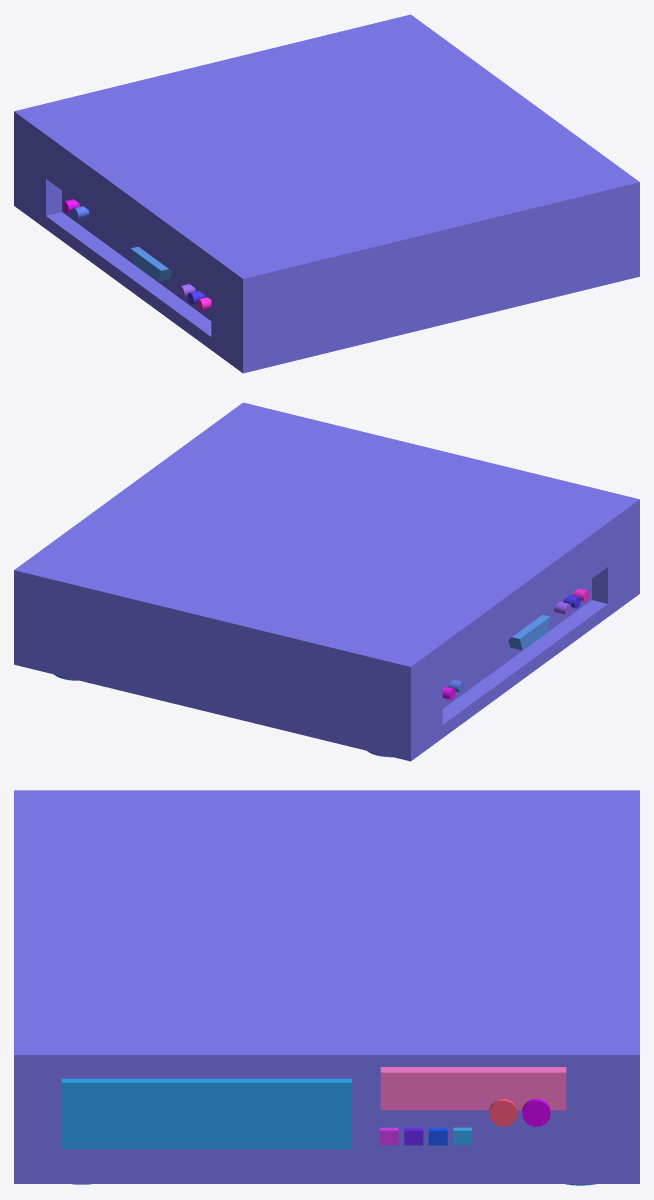
The model's file is vidik_colored_one_fig.fbx.
3 views of the same model, one above another, from view 1: azimuth 30°, elevation 25°; view 2: azimuth 150°, elevation 25°; view 3: azimuth 270°, elevation 25° (orthographic). The views are drawn at different scales.
Visible parts, largest first — view 1: Cylinder.010; view 2: Cylinder.010; view 3: Cylinder.010.
Part boxes in pixels (<box>): Cylinder.010: <box>14,14,639,373</box>; Cylinder.010: <box>14,402,639,761</box>; Cylinder.010: <box>14,790,639,1185</box>.
Size of the model in its own units: 206 by 50.58 by 200.
